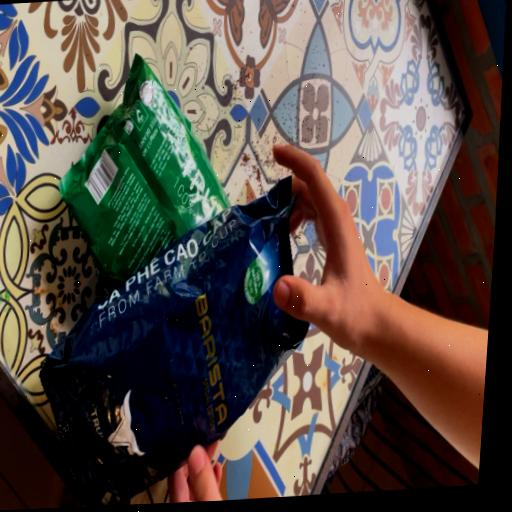cafe_hat: (39, 178, 308, 507)
cafe_xay: (58, 55, 227, 290)
